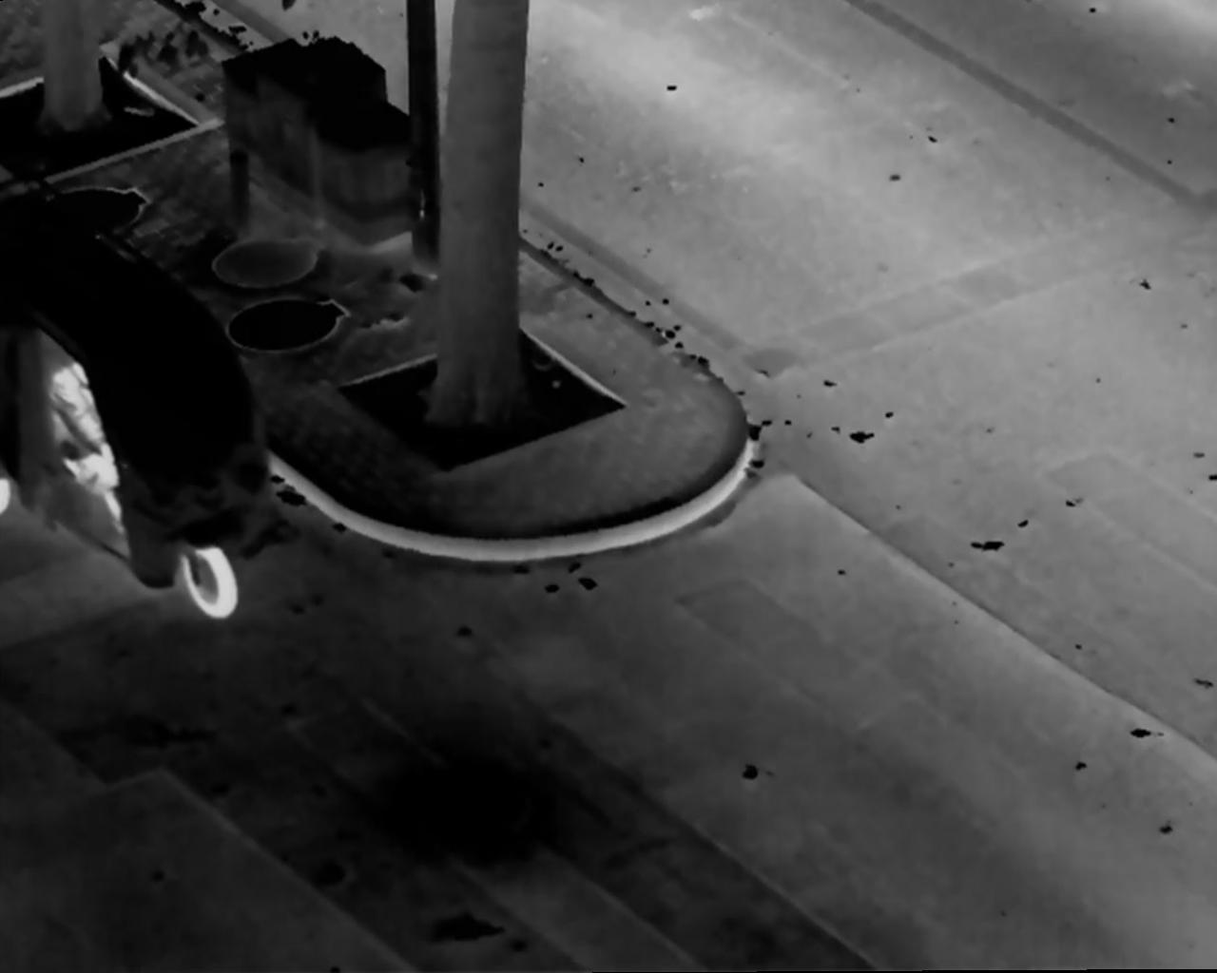person: (48, 348, 129, 524)
